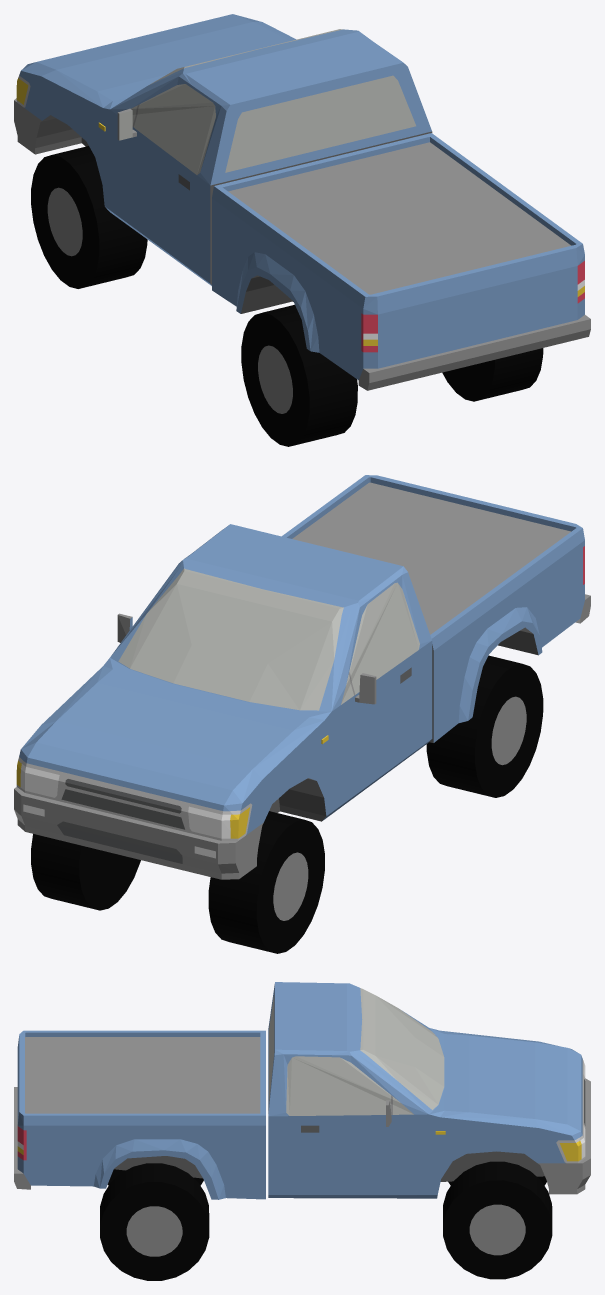
3 views of the same model, one above another, from view 1: azimuth 30°, elevation 25°; view 2: azimuth 150°, elevation 25°; view 3: azimuth 270°, elevation 25° (orthographic). The views are drawn at different scales.
Parts seen in each view (by area): view 1: Mesh1 Model, Mesh5 Model, Mesh4 Model, Mesh2 Model; view 2: Mesh1 Model, Mesh4 Model, Mesh5 Model, Mesh3 Model; view 3: Mesh1 Model, Mesh3 Model, Mesh2 Model.
Boxes of the visible parts, x1,y1,x2,y2 form: Mesh1 Model: [14, 14, 590, 390]; Mesh5 Model: [241, 304, 357, 446]; Mesh4 Model: [31, 146, 147, 288]; Mesh2 Model: [442, 348, 543, 401]; Mesh1 Model: [14, 475, 590, 879]; Mesh4 Model: [208, 811, 324, 953]; Mesh5 Model: [426, 655, 543, 797]; Mesh3 Model: [31, 834, 140, 910]; Mesh1 Model: [14, 982, 590, 1199]; Mesh3 Model: [443, 1161, 552, 1279]; Mesh2 Model: [100, 1163, 209, 1280].
Bounding box in the file's own units: 134 × 137 × 326.
